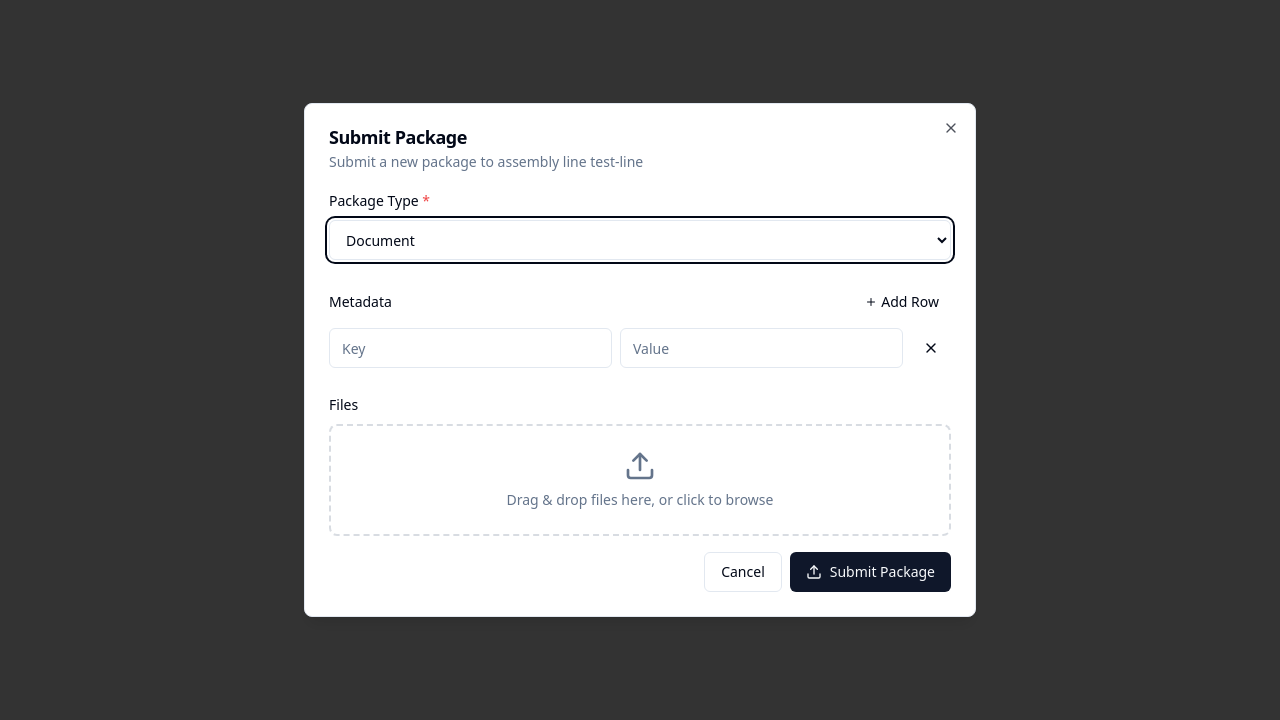
Test: PackageSubmitDialog › metadata editor › removes metadata row on Remove click
This screenshot has width=1280, height=720.
# Add a second row first
Click the button "Add Row" at point(902, 302), box [853,284,951,320]
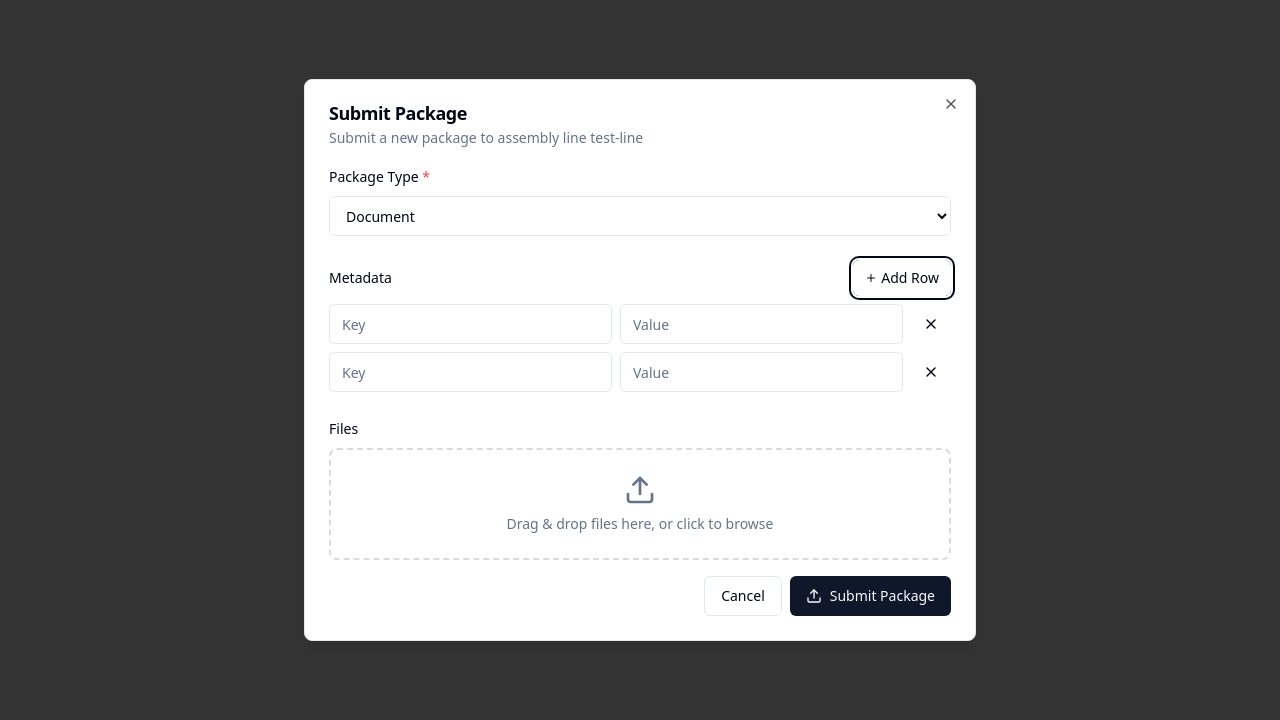
Expected: the number of fields with placeholder "Key" is 2, [329,304,612,344]; [329,352,612,392]
Click the 1st button named "remove metadata row" at point(931, 324), box [911,304,951,344]
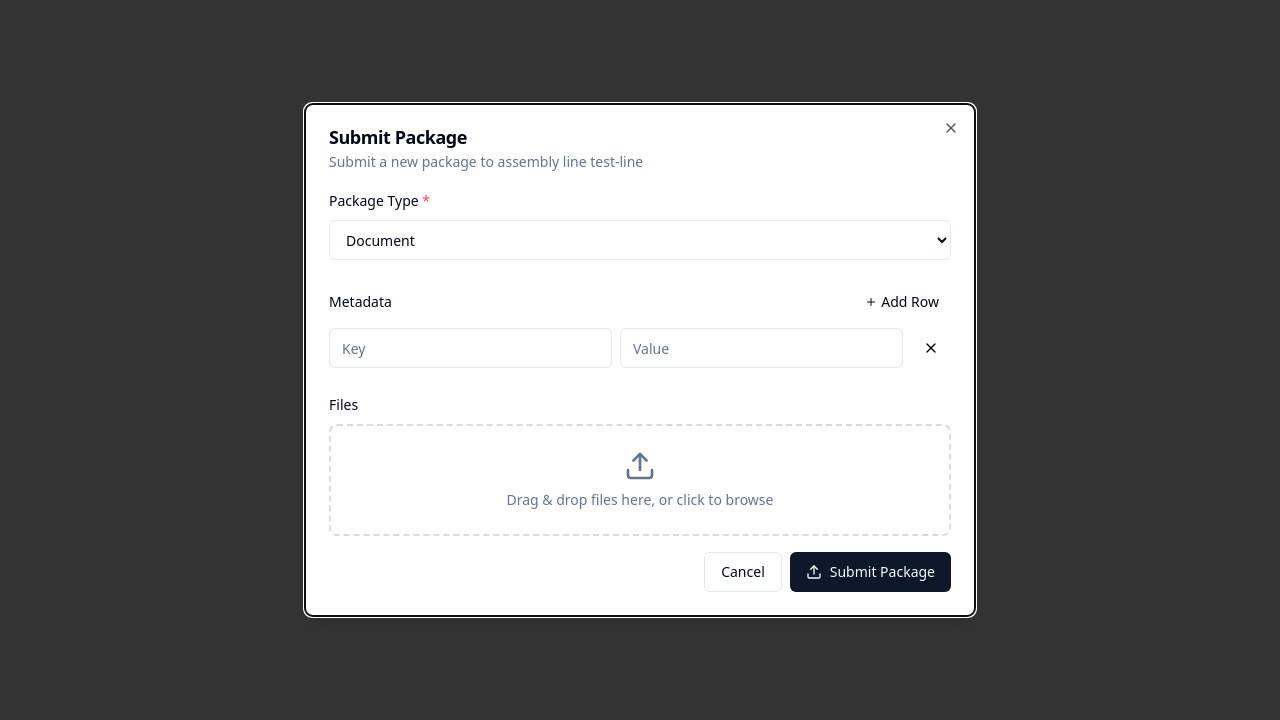
Expected: the number of fields with placeholder "Key" is 1, [329,328,612,368]
